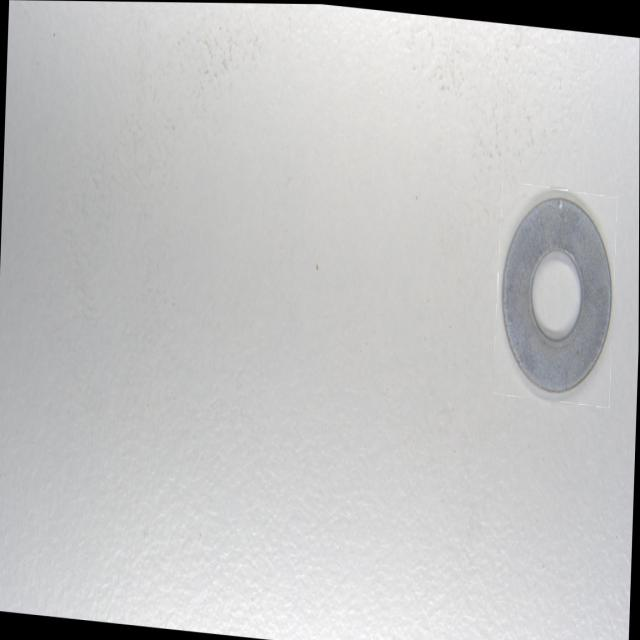washer: (498, 187, 614, 399)
